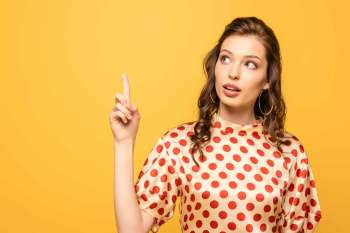hand: (109, 72, 141, 141)
